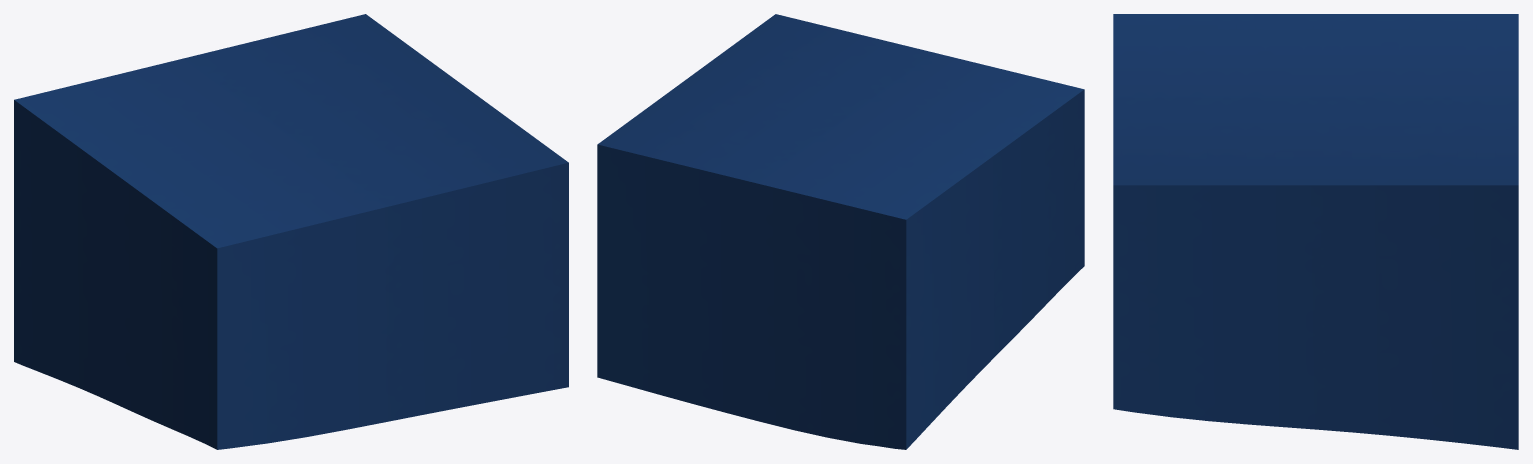
The model's file is ozean.fbx.
The picture shows the model from 3 angles, left to right: view 1: azimuth 30°, elevation 25°; view 2: azimuth 150°, elevation 25°; view 3: azimuth 270°, elevation 25°; orthographic projection. The views are drawn at different scales.
Parts seen in each view (by area): view 1: Ozean; view 2: Ozean; view 3: Ozean.
Part boxes in pixels (x1,y1,x2,y2): Ozean: [14, 14, 568, 449]; Ozean: [597, 14, 1084, 449]; Ozean: [1113, 14, 1518, 449].
Size of the model in its own units: 0.112 by 0.112 by 0.0824.
